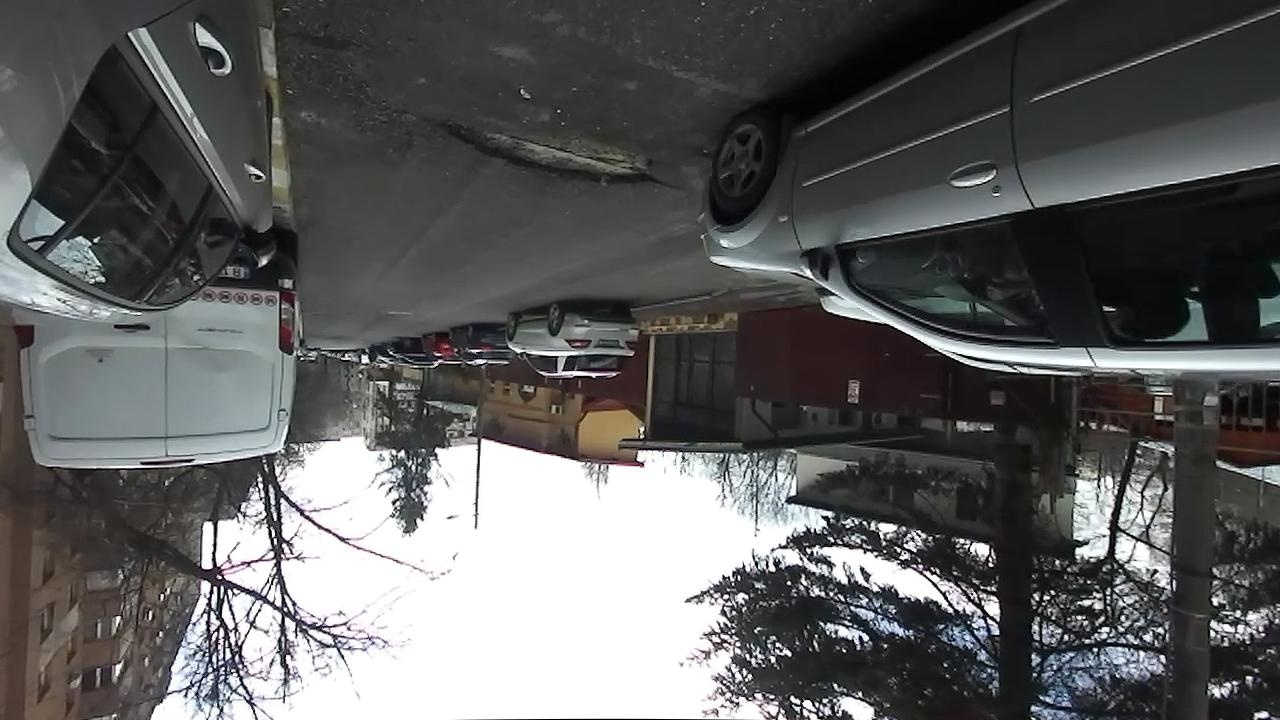pothole: (420, 108, 673, 192)
